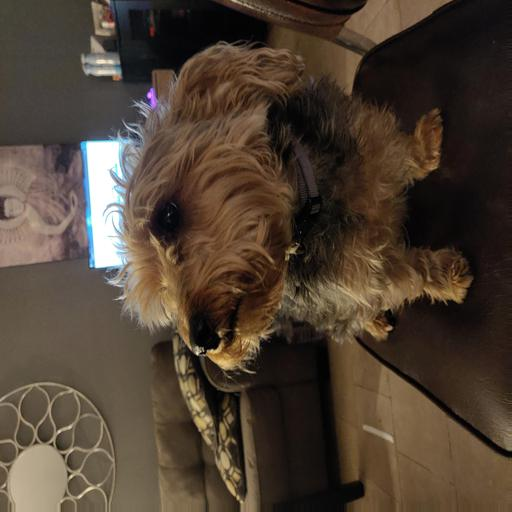dog: (105, 32, 415, 342)
